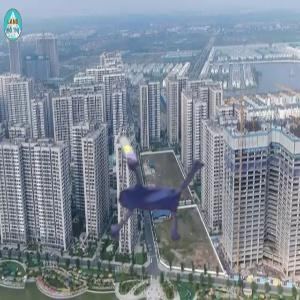drone: (68, 101, 234, 267)
